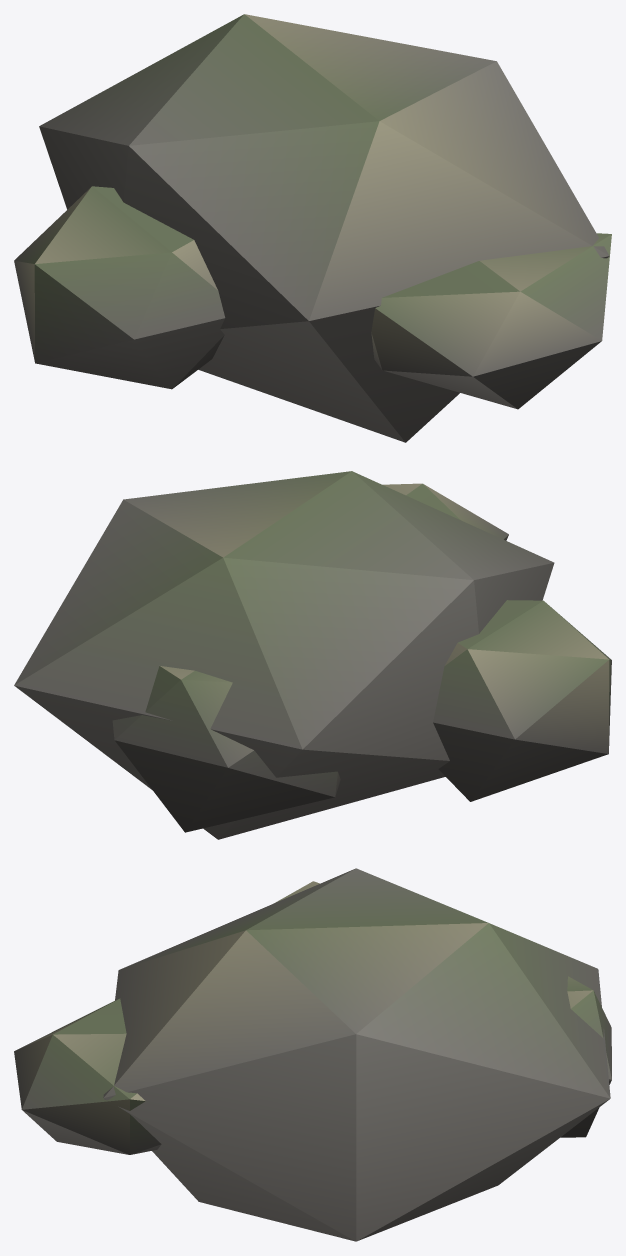
File: outcrop_a.glb
The picture shows the model from 3 angles, top to bottom: view 1: azimuth 30°, elevation 25°; view 2: azimuth 150°, elevation 25°; view 3: azimuth 270°, elevation 25°; orthographic projection. The views are drawn at different scales.
Parts seen in each view (by area): view 1: outcrop_a; view 2: outcrop_a; view 3: outcrop_a.
Boxes of the visible parts, x1,y1,x2,y2 form: outcrop_a: (14, 14, 611, 442); outcrop_a: (14, 471, 611, 839); outcrop_a: (14, 868, 611, 1241).
Bounding box in the file's own units: 1.37 × 0.7386 × 1.44.
